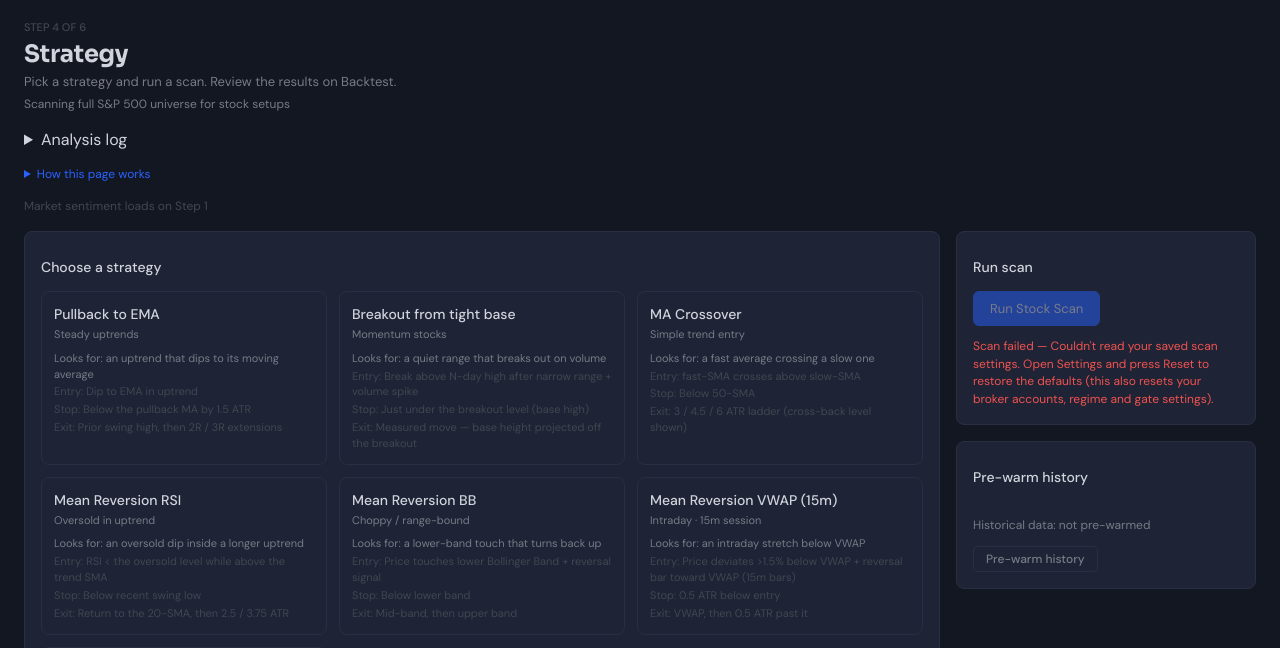
Test case: A5d — Step 4 scan failure messages › T3 — an API error after the request shows the API line, no "Error: " prefix
The width and height of the screenshot is (1280, 648).
Click the button "Breakout from tight base": (482,378) [339, 291, 625, 465]
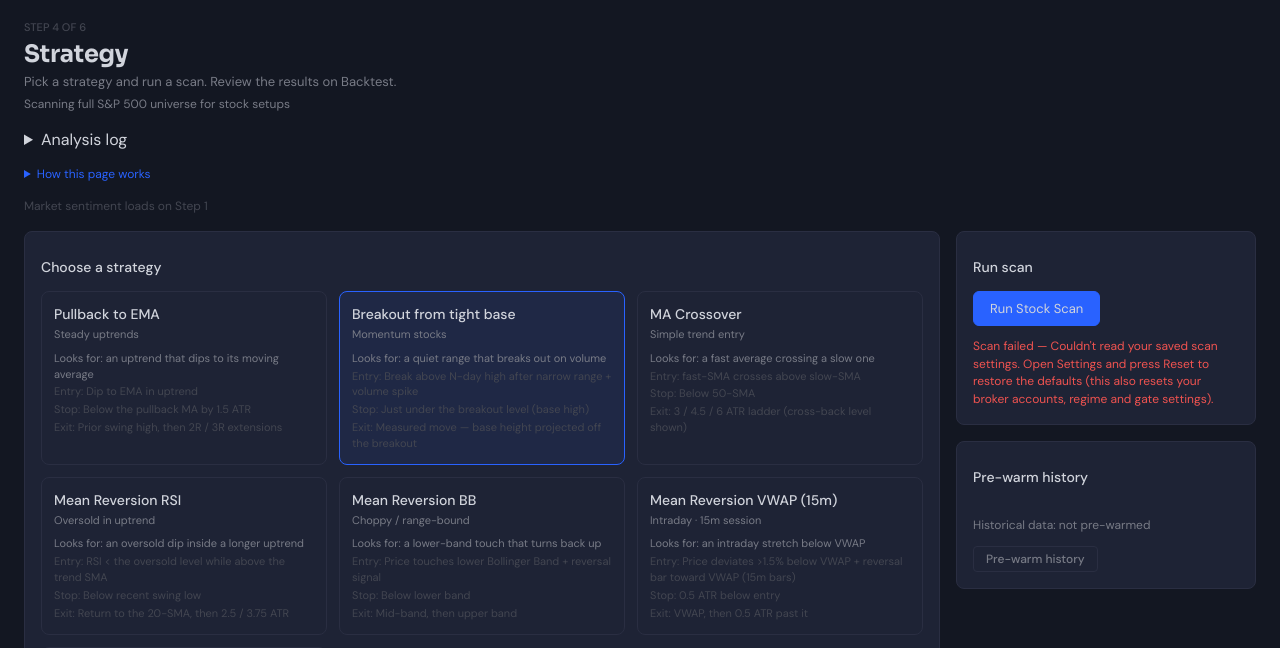
Click the button "Run Stock Scan": (1037,309) [973, 291, 1100, 326]
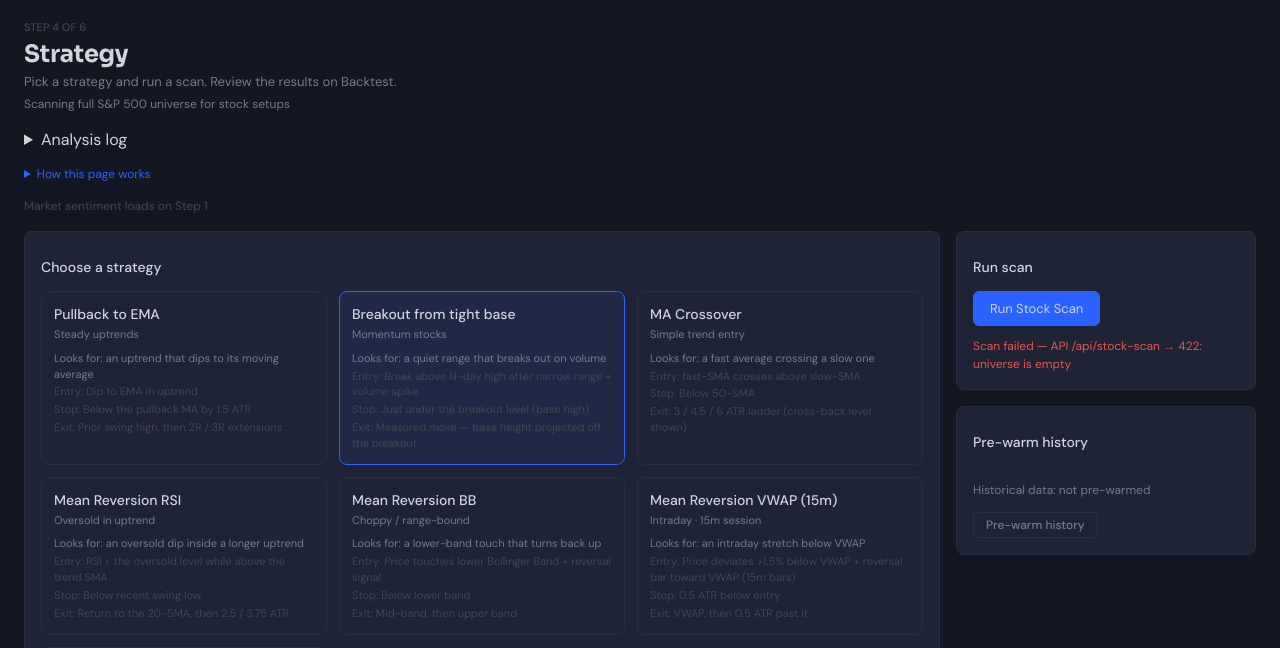
Check: the button "Run Stock Scan" is enabled, box [973, 291, 1100, 326]
Check: the text "Scan failed — API /api/stock-scan → 422: universe is empty" is shown, box [973, 338, 1239, 373]
Check: the text "Couldn't read your saved scan settings. Open Settings and press Reset to restore the defaults (this also resets your bro" is gone
